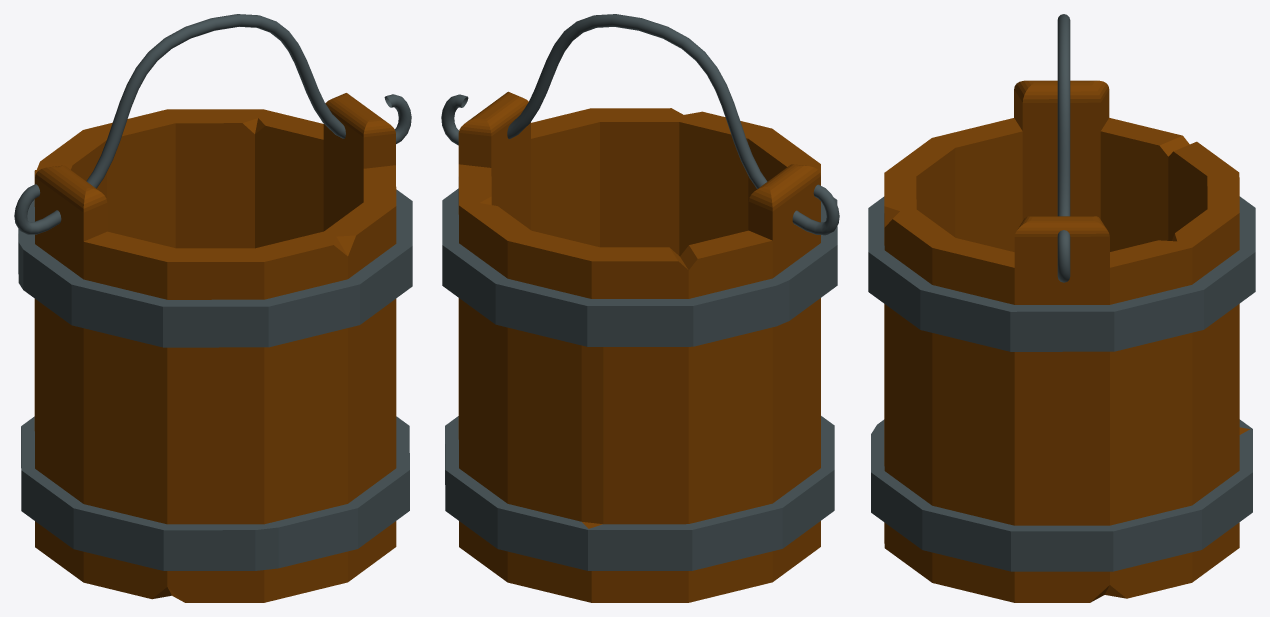
File: annaffiatoioVUOTO.glb
3 views of the same model, side by side, from view 1: azimuth 30°, elevation 25°; view 2: azimuth 150°, elevation 25°; view 3: azimuth 270°, elevation 25° (orthographic).
Parts seen in each view (by area): view 1: Cylinder, BézierCircle; view 2: Cylinder, BézierCircle; view 3: Cylinder, BézierCircle.
Boxes of the visible parts, box(x1,y1,x2,y2) form: Cylinder: box(18, 93, 412, 602); BézierCircle: box(14, 14, 411, 234); Cylinder: box(442, 91, 837, 602); BézierCircle: box(441, 14, 839, 235); Cylinder: box(868, 80, 1255, 602); BézierCircle: box(1057, 14, 1070, 282).
Size of the model in its own units: 2.15 by 2.63 by 1.85.
